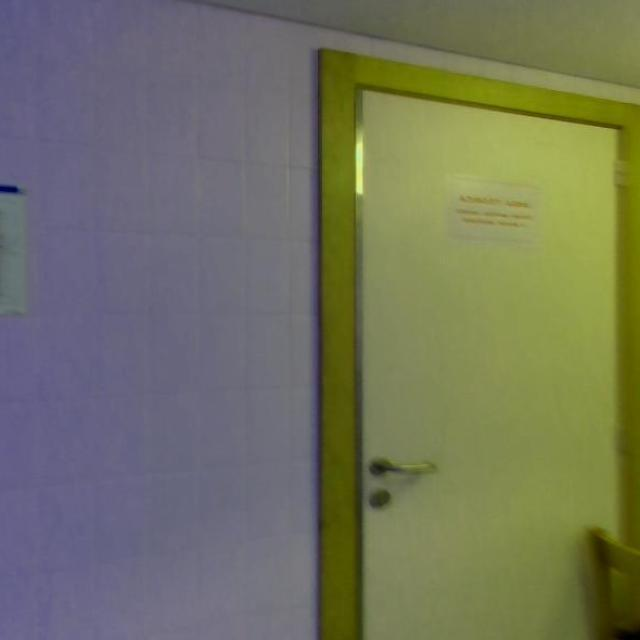door: (353, 83, 622, 639)
